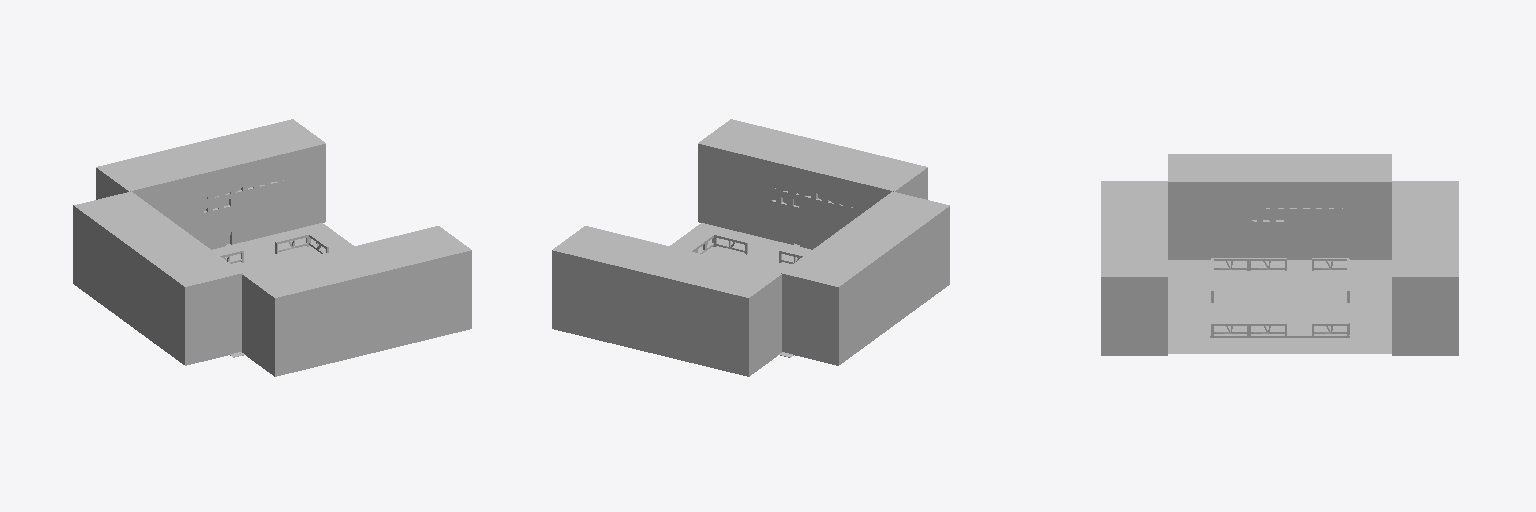
The model's file is moscowAll.obj.
3 views of the same model, side by side, from view 1: azimuth 30°, elevation 25°; view 2: azimuth 150°, elevation 25°; view 3: azimuth 270°, elevation 25° (orthographic).
Parts seen in each view (by area): view 1: Cube.001_Cube.013, Cube.003_Cube.004, Cube.002_Cube.014, Cube_Cube.001, Cube.004_Cube.005; view 2: Cube.002_Cube.014, Cube.003_Cube.004, Cube.001_Cube.013, Cube_Cube.001, Cube.004_Cube.005; view 3: Cube.003_Cube.004, Cube.001_Cube.013, Cube.002_Cube.014, Cube_Cube.001, Cube.004_Cube.005.
Part boxes in pixels (left/top/right/bottom): Cube.001_Cube.013: left=242, top=226, right=471, bottom=376; Cube.003_Cube.004: left=73, top=191, right=242, bottom=365; Cube.002_Cube.014: left=96, top=119, right=325, bottom=249; Cube_Cube.001: left=212, top=223, right=353, bottom=357; Cube.004_Cube.005: left=231, top=246, right=320, bottom=272; Cube.002_Cube.014: left=552, top=226, right=781, bottom=376; Cube.003_Cube.004: left=781, top=191, right=949, bottom=365; Cube.001_Cube.013: left=698, top=119, right=927, bottom=249; Cube_Cube.001: left=670, top=223, right=811, bottom=357; Cube.004_Cube.005: left=703, top=246, right=792, bottom=272; Cube.003_Cube.004: left=1168, top=154, right=1391, bottom=259; Cube.001_Cube.013: left=1101, top=181, right=1167, bottom=355; Cube.002_Cube.014: left=1392, top=181, right=1458, bottom=355; Cube_Cube.001: left=1168, top=260, right=1391, bottom=353; Cube.004_Cube.005: left=1210, top=270, right=1349, bottom=337.
Size of the model in its own units: 159 by 48.74 by 195.